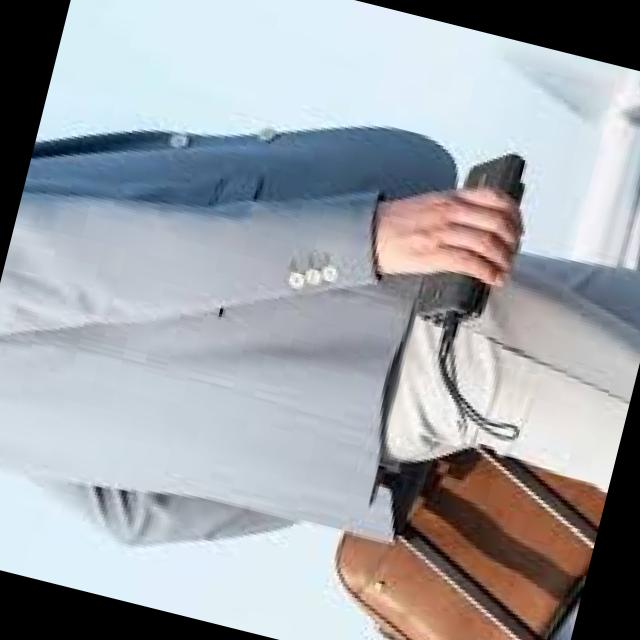power_bank: (412, 132, 530, 333)
